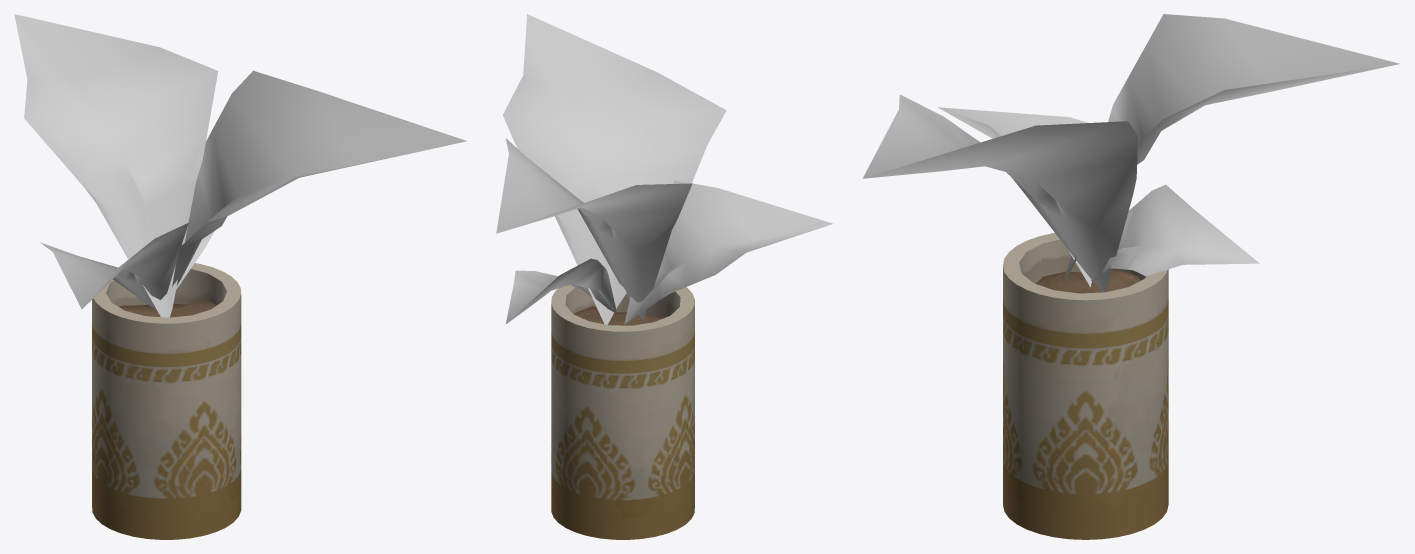
The model's file is Plant.obj.
3 renders of one model, left to right at view 1: azimuth 30°, elevation 25°; view 2: azimuth 150°, elevation 25°; view 3: azimuth 270°, elevation 25°, orthographic. The views are drawn at different scales.
Visible parts, largest first — view 1: Leaves_LeavesMesh, Pot_PotMesh; view 2: Leaves_LeavesMesh, Pot_PotMesh; view 3: Leaves_LeavesMesh, Pot_PotMesh.
Boxes of the visible parts, <box> form: Leaves_LeavesMesh: <box>14,14,467,317</box>; Pot_PotMesh: <box>92,263,241,539</box>; Leaves_LeavesMesh: <box>496,14,833,324</box>; Pot_PotMesh: <box>551,285,694,539</box>; Leaves_LeavesMesh: <box>862,14,1399,292</box>; Pot_PotMesh: <box>1003,233,1168,539</box>.
Bounding box in the file's own units: 2.07 × 2.27 × 2.47.
